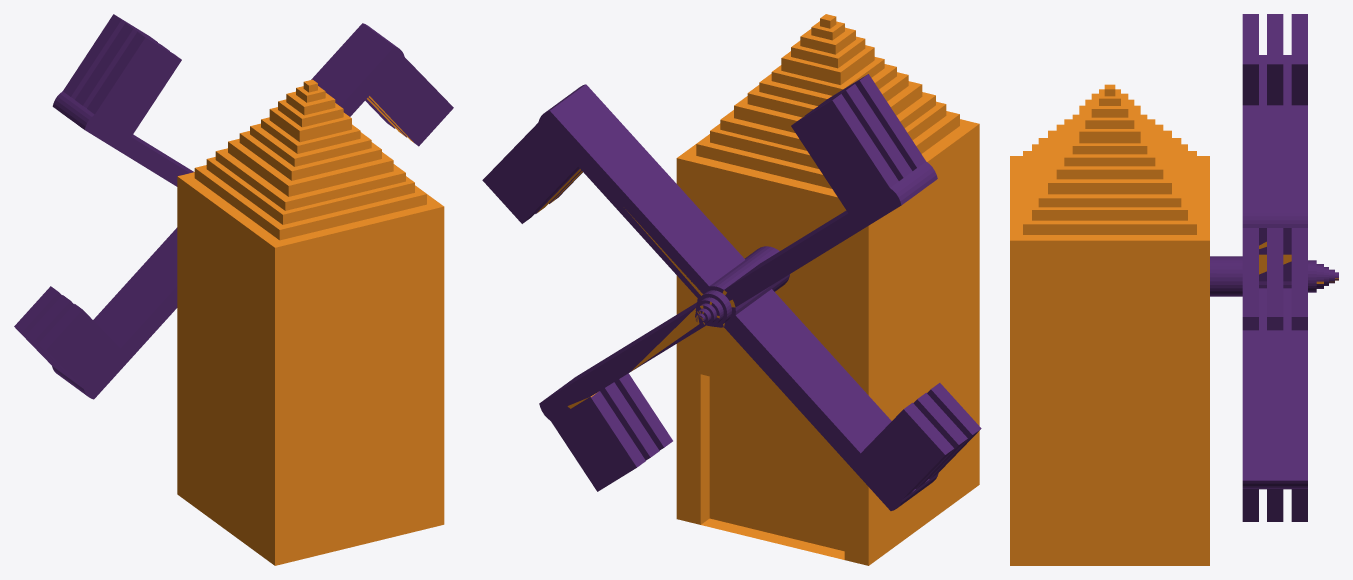
The model's file is Muzeum_1V2.fbx.
3 renders of one model, left to right at view 1: azimuth 30°, elevation 25°; view 2: azimuth 150°, elevation 25°; view 3: azimuth 270°, elevation 25°, orthographic. The views are drawn at different scales.
Parts seen in each view (by area): view 1: Cube_001; view 2: Cube_001; view 3: Cube_001.
Boxes of the visible parts, <box> form: Cube_001: <box>14,14,453,565</box>; Cube_001: <box>482,14,981,565</box>; Cube_001: <box>1010,14,1338,565</box>.
Size of the model in its own units: 74.99 by 78.91 by 51.18.
Materials: 1 (1 with a texture image).
